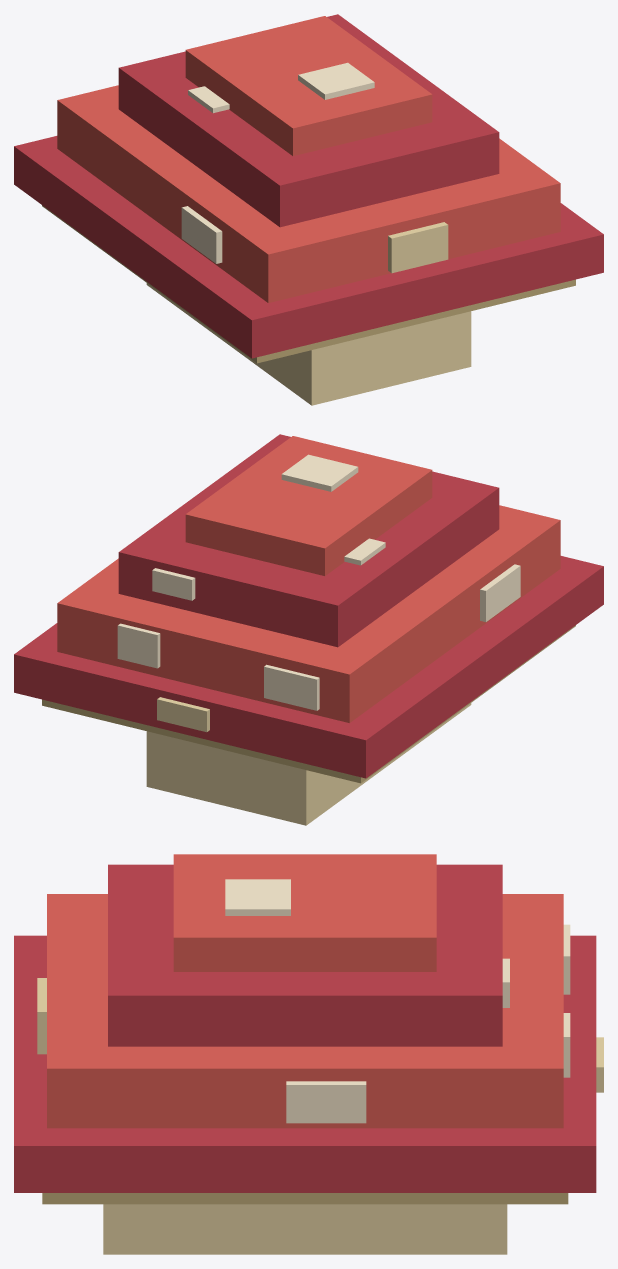
The model's file is mushroom_hat.glb.
3 renders of one model, top to bottom at view 1: azimuth 30°, elevation 25°; view 2: azimuth 150°, elevation 25°; view 3: azimuth 270°, elevation 25°, orthographic. The views are drawn at different scales.
Parts seen in each view (by area): view 1: dome_lower, red_rim, dome_upper, dome_top, soft_stem_cap, underside, rear_spot, top_spot_center, left_spot, top_spot_left; view 2: dome_lower, red_rim, dome_upper, dome_top, soft_stem_cap, underside, front_spot_left, top_spot_center, front_spot_right, left_spot, front_rim_spot, upper_spot (+1 smaller); view 3: dome_lower, red_rim, dome_upper, dome_top, soft_stem_cap, underside, right_spot, top_spot_center, rear_spot, front_spot_left.
Boxes of the visible parts, x1=… form: dome_lower: x1=57, y1=85, x2=560, y2=302; red_rim: x1=14, y1=136, x2=603, y2=358; dome_upper: x1=118, y1=14, x2=499, y2=227; dome_top: x1=185, y1=16, x2=432, y2=155; soft_stem_cap: x1=146, y1=283, x2=471, y2=405; underside: x1=42, y1=205, x2=575, y2=363; rear_spot: x1=388, y1=222, x2=448, y2=273; top_spot_center: x1=298, y1=62, x2=374, y2=99; left_spot: x1=181, y1=206, x2=222, y2=263; top_spot_left: x1=188, y1=86, x2=229, y2=113; dome_lower: x1=57, y1=505, x2=560, y2=722; red_rim: x1=14, y1=556, x2=603, y2=778; dome_upper: x1=118, y1=434, x2=499, y2=647; dome_top: x1=185, y1=436, x2=432, y2=575; soft_stem_cap: x1=146, y1=703, x2=471, y2=825; underside: x1=42, y1=625, x2=575, y2=783; front_spot_left: x1=264, y1=664, x2=319, y2=710; top_spot_center: x1=281, y1=454, x2=358, y2=491; front_spot_right: x1=117, y1=623, x2=160, y2=668; left_spot: x1=480, y1=564, x2=520, y2=621; front_rim_spot: x1=157, y1=697, x2=209, y2=732; upper_spot: x1=152, y1=568, x2=195, y2=600; dome_lower: x1=47, y1=894, x2=563, y2=1128; red_rim: x1=14, y1=935, x2=596, y2=1192; dome_upper: x1=108, y1=864, x2=502, y2=1046; dome_top: x1=173, y1=854, x2=436, y2=971; soft_stem_cap: x1=103, y1=1204, x2=507, y2=1254; underside: x1=42, y1=1193, x2=568, y2=1204; right_spot: x1=286, y1=1081, x2=366, y2=1123; top_spot_center: x1=225, y1=879, x2=290, y2=915; rear_spot: x1=37, y1=978, x2=46, y2=1054; front_spot_left: x1=563, y1=924, x2=570, y2=994.
Bounding box in the file's own units: 0.3313 × 0.2331 × 0.3925.
